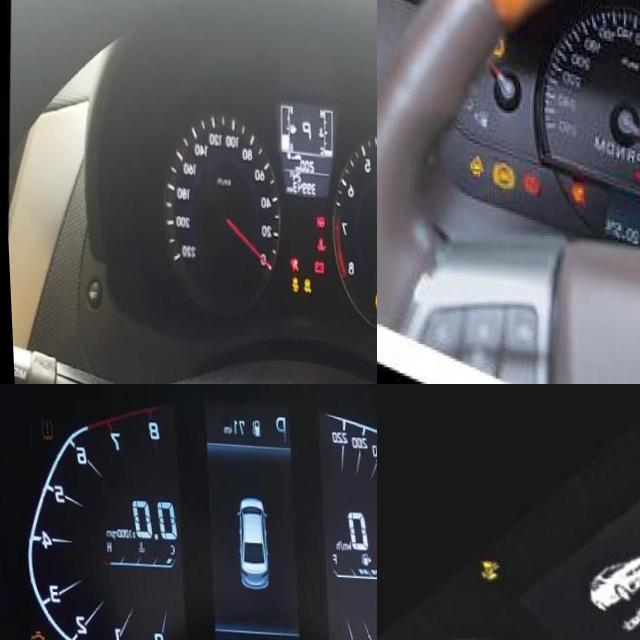Electronic Power Steering: (314, 212, 323, 224)
High Engine Coolant Temperature: (314, 233, 323, 249)
